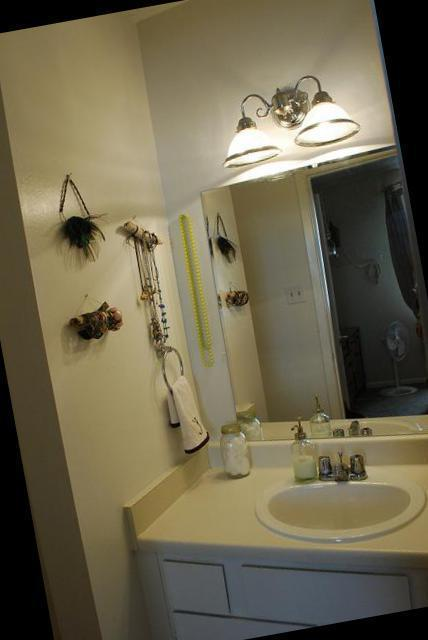Lavamanos: (241, 423, 428, 567)
